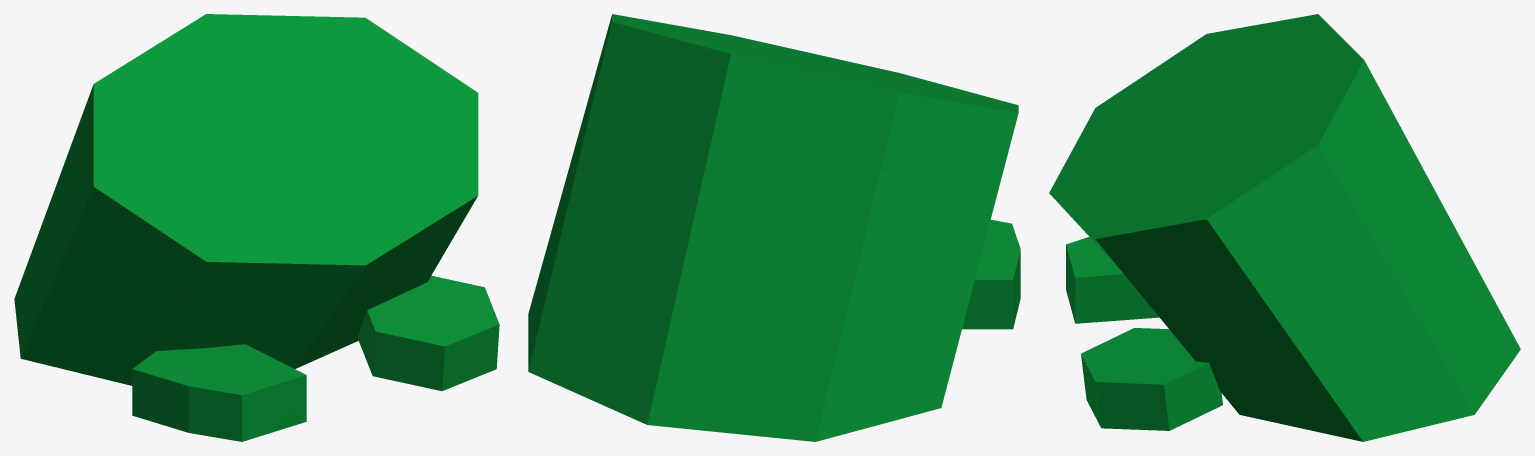
The picture shows the model from 3 angles, left to right: view 1: azimuth 30°, elevation 25°; view 2: azimuth 150°, elevation 25°; view 3: azimuth 270°, elevation 25°; orthographic projection. The views are drawn at different scales.
Parts seen in each view (by area): view 1: 2; view 2: 2; view 3: 2.
Boxes of the visible parts, x1,y1,x2,y2 form: 2: (14,14,499,441); 2: (528,14,1020,441); 2: (1049,14,1520,441).
Bounding box in the file's own units: 153 × 113 × 164.
1 material, 1 textured.
